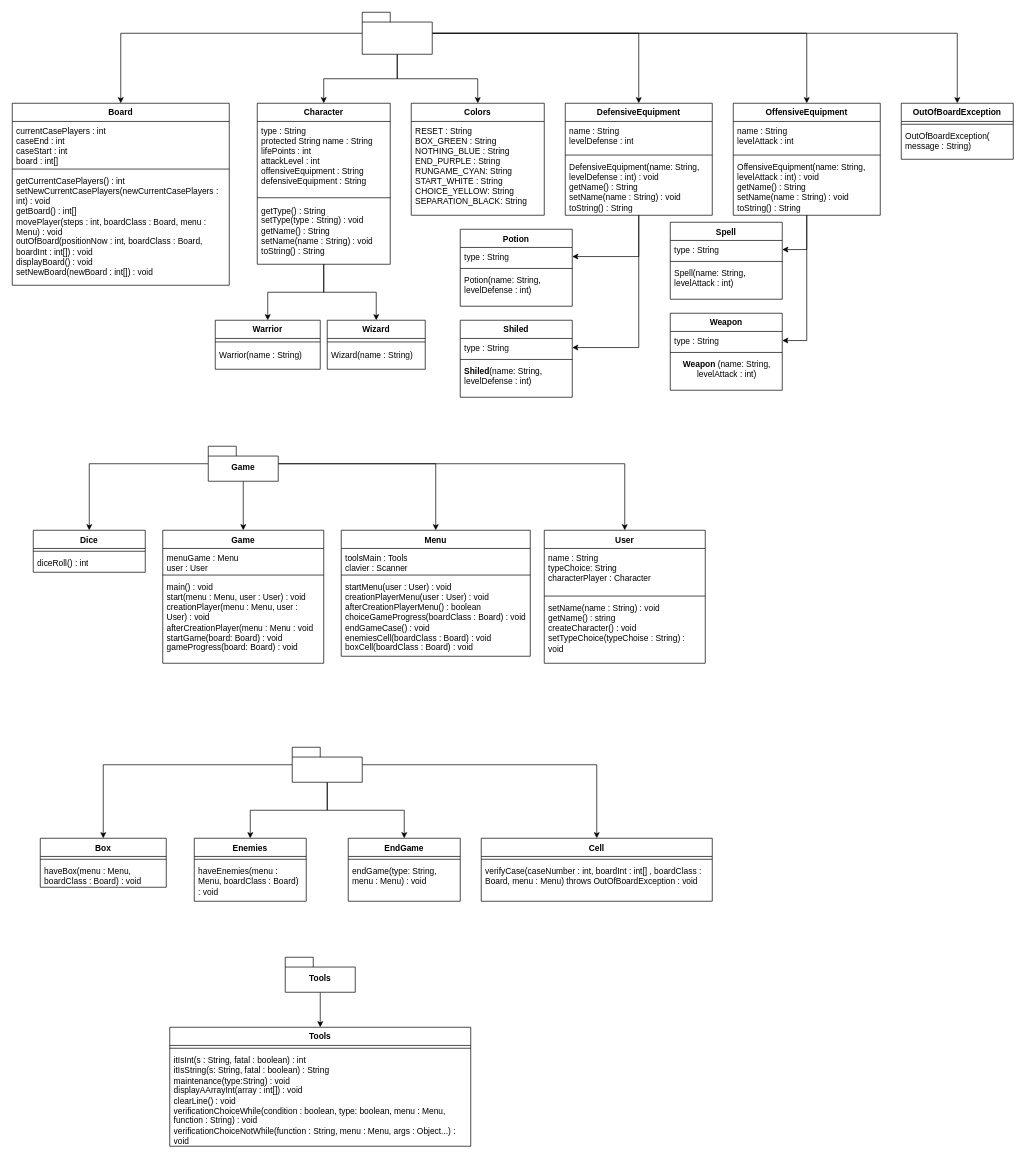
Image size: 1026x1161. Some labels were removed from this diagram. The centre of each missing label's shape, as x and y in pixels:
Configurations: (397,33)
Verifications: (327,764)
